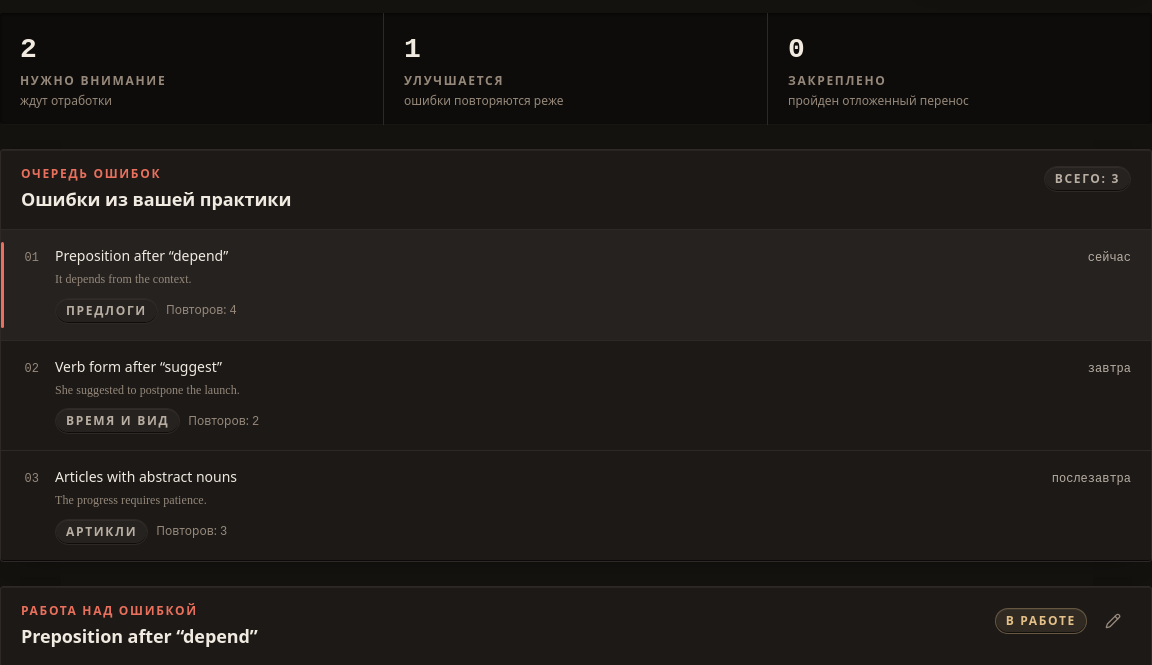
Scenario: ErrorLabPage localization and due gate › uses Russian controls and marks English learner sentences and inputs
Expected: the text "Нужно внимание" is shown, x1=20 y1=72 x2=166 y2=89
Expected: the heading "Ошибки из вашей практики" is shown, x1=21 y1=186 x2=291 y2=213
Click the button named "Изменить принятый вариант": (1113, 621) x1=1095 y1=603 x2=1131 y2=639
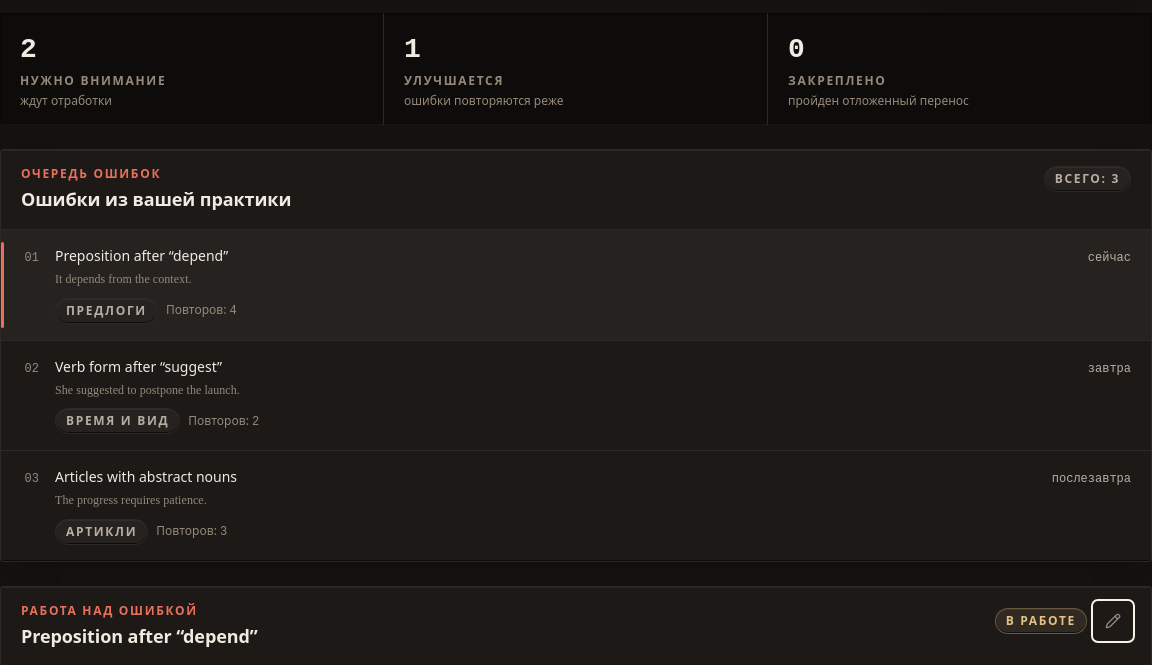
Click the button with aria-label "Открыть ошибку: Verb form after": (139, 366) x1=1 y1=341 x2=1151 y2=450
(page scrolled)
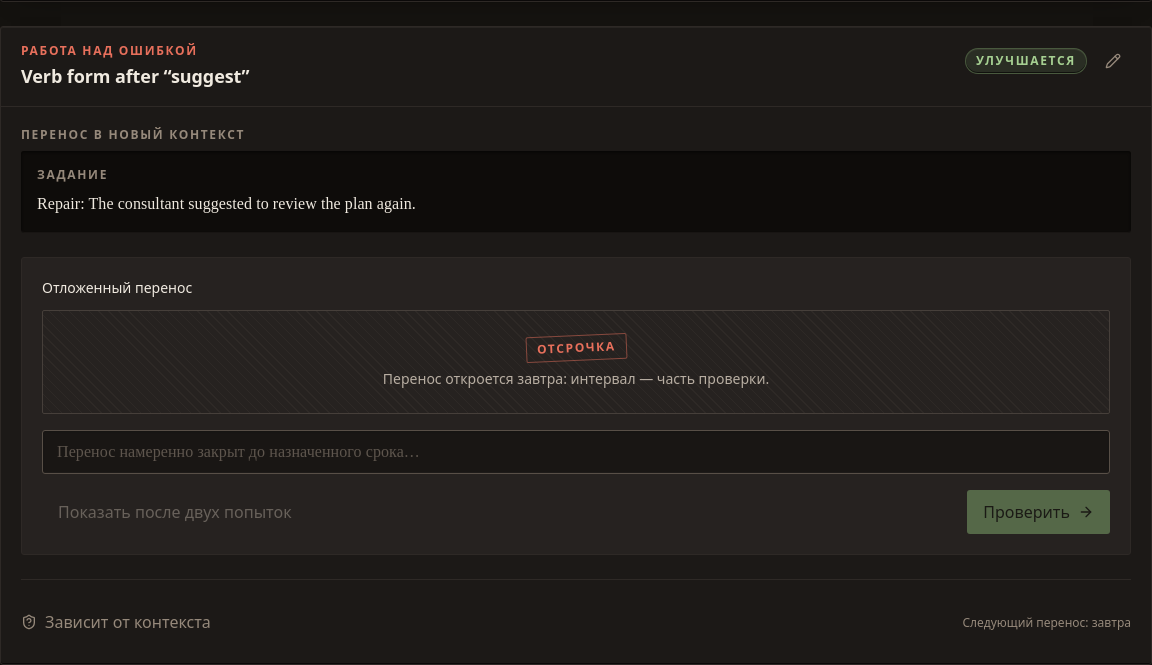
Result: the field named "Ваш исправленный вариант" is disabled at x1=42 y1=430 x2=1110 y2=474
Result: the text "Перенос откроется завтра: интервал — часть проверки." is shown at x1=383 y1=369 x2=769 y2=389
